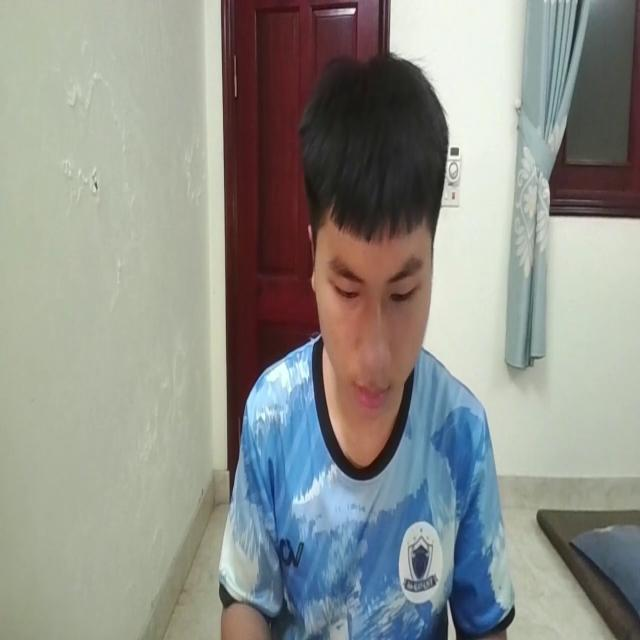student: (206, 59, 507, 640)
